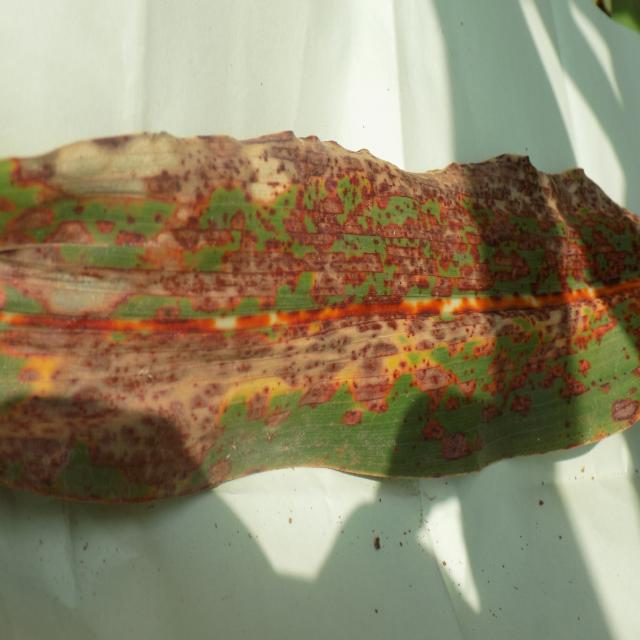millet_rust: (0, 119, 640, 518)
